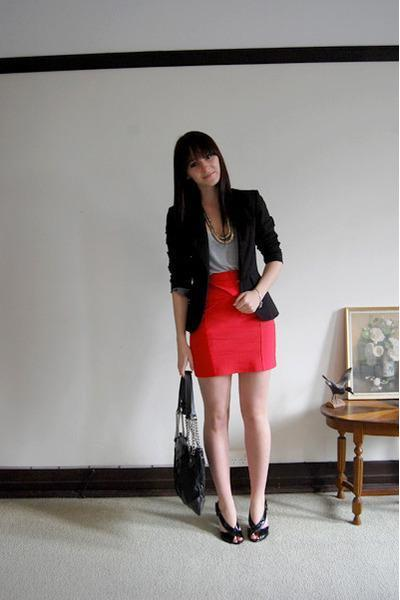jacket: (166, 188, 284, 329)
skirt: (178, 268, 278, 379)
vest: (198, 217, 239, 274)
